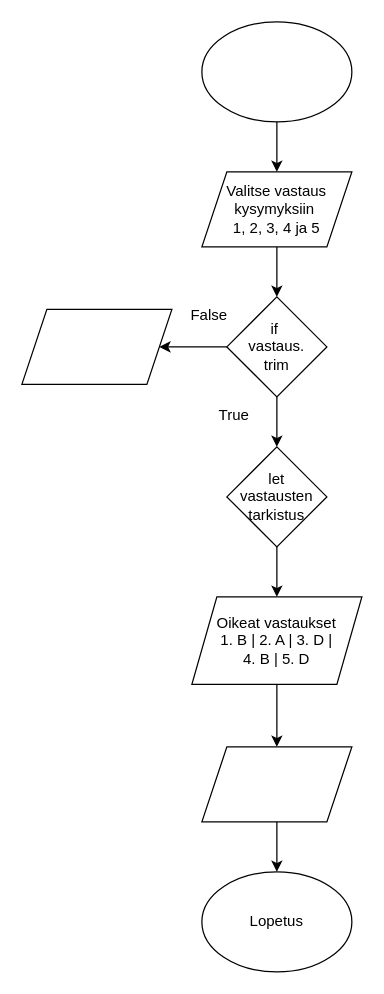
Some shapes in this 384 by 994 pixel diagram are drawn without their labels. Here are the shapes that lost their labels. From the top down, the centre of each, then its label:
the point at 276,71: Aloitus
the point at 96,346: Alert Et vastannut kaikiin kysymyksiin
the point at 276,784: Let Pisteet
